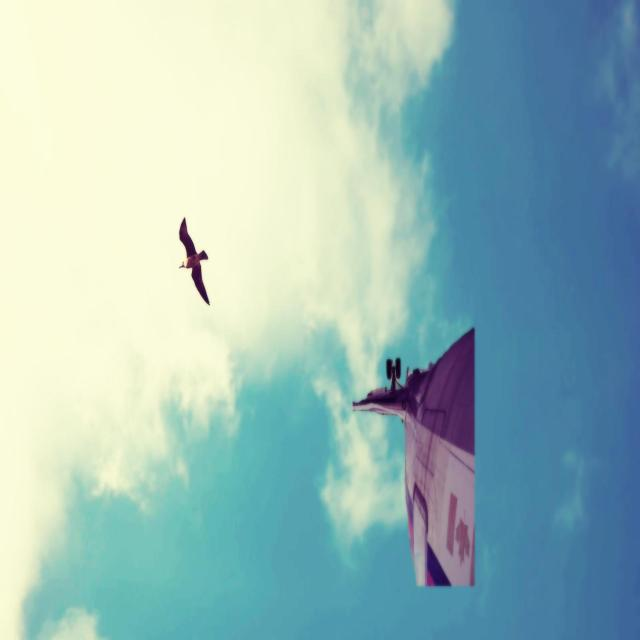airplane: (352, 326, 475, 587)
